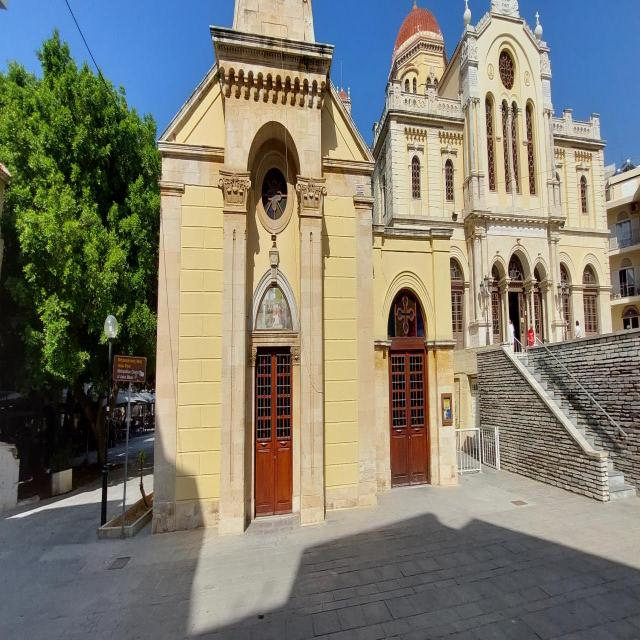Agios Minas: (146, 3, 615, 535)
